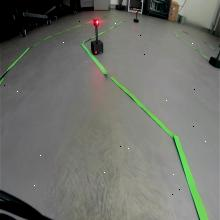red: (94, 18, 100, 26)
